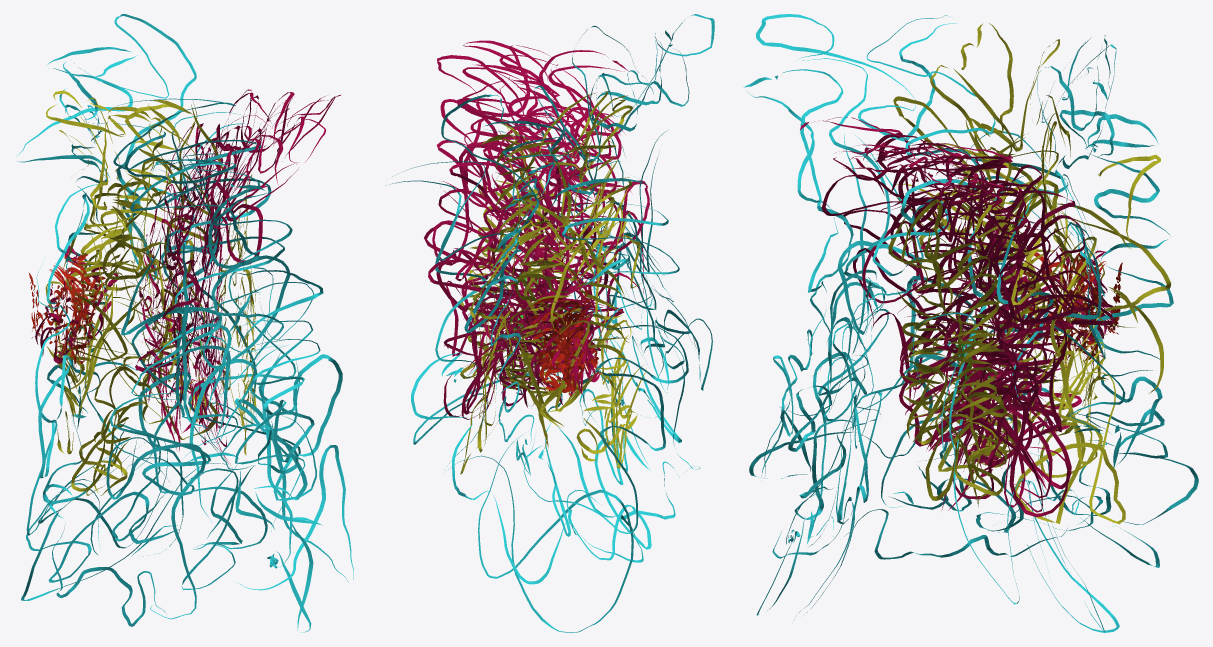
The model's file is P3-IT-Takako-divide.glb.
3 renders of one model, left to right at view 1: azimuth 30°, elevation 25°; view 2: azimuth 150°, elevation 25°; view 3: azimuth 270°, elevation 25°, orthographic. The views are drawn at different scales.
Visible parts, largest first — view 1: brush_doubletaperedflat_3, brush_doubletaperedflat_2, brush_doubletaperedflat_1, brush_doubletaperedflat_4, brush_doubletaperedflat_0; view 2: brush_doubletaperedflat_1, brush_doubletaperedflat_3, brush_doubletaperedflat_2, brush_doubletaperedflat_0, brush_doubletaperedflat_4; view 3: brush_doubletaperedflat_3, brush_doubletaperedflat_1, brush_doubletaperedflat_2, brush_doubletaperedflat_0, brush_doubletaperedflat_4.
Boxes of the visible parts, <box> form: brush_doubletaperedflat_3: <box>16,14,353,632</box>; brush_doubletaperedflat_2: <box>45,90,256,455</box>; brush_doubletaperedflat_1: <box>135,89,340,467</box>; brush_doubletaperedflat_4: <box>21,143,300,600</box>; brush_doubletaperedflat_0: <box>29,245,203,369</box>; brush_doubletaperedflat_1: <box>424,40,649,419</box>; brush_doubletaperedflat_3: <box>385,14,714,584</box>; brush_doubletaperedflat_2: <box>460,90,633,474</box>; brush_doubletaperedflat_0: <box>444,289,600,395</box>; brush_doubletaperedflat_4: <box>413,162,688,632</box>; brush_doubletaperedflat_3: <box>743,14,1198,615</box>; brush_doubletaperedflat_1: <box>800,117,1113,516</box>; brush_doubletaperedflat_2: <box>878,39,1125,524</box>; brush_doubletaperedflat_0: <box>1001,247,1122,436</box>; brush_doubletaperedflat_4: <box>913,175,1119,632</box>.
Bounding box in the file's own units: 11.33 × 21.12 × 14.06.
